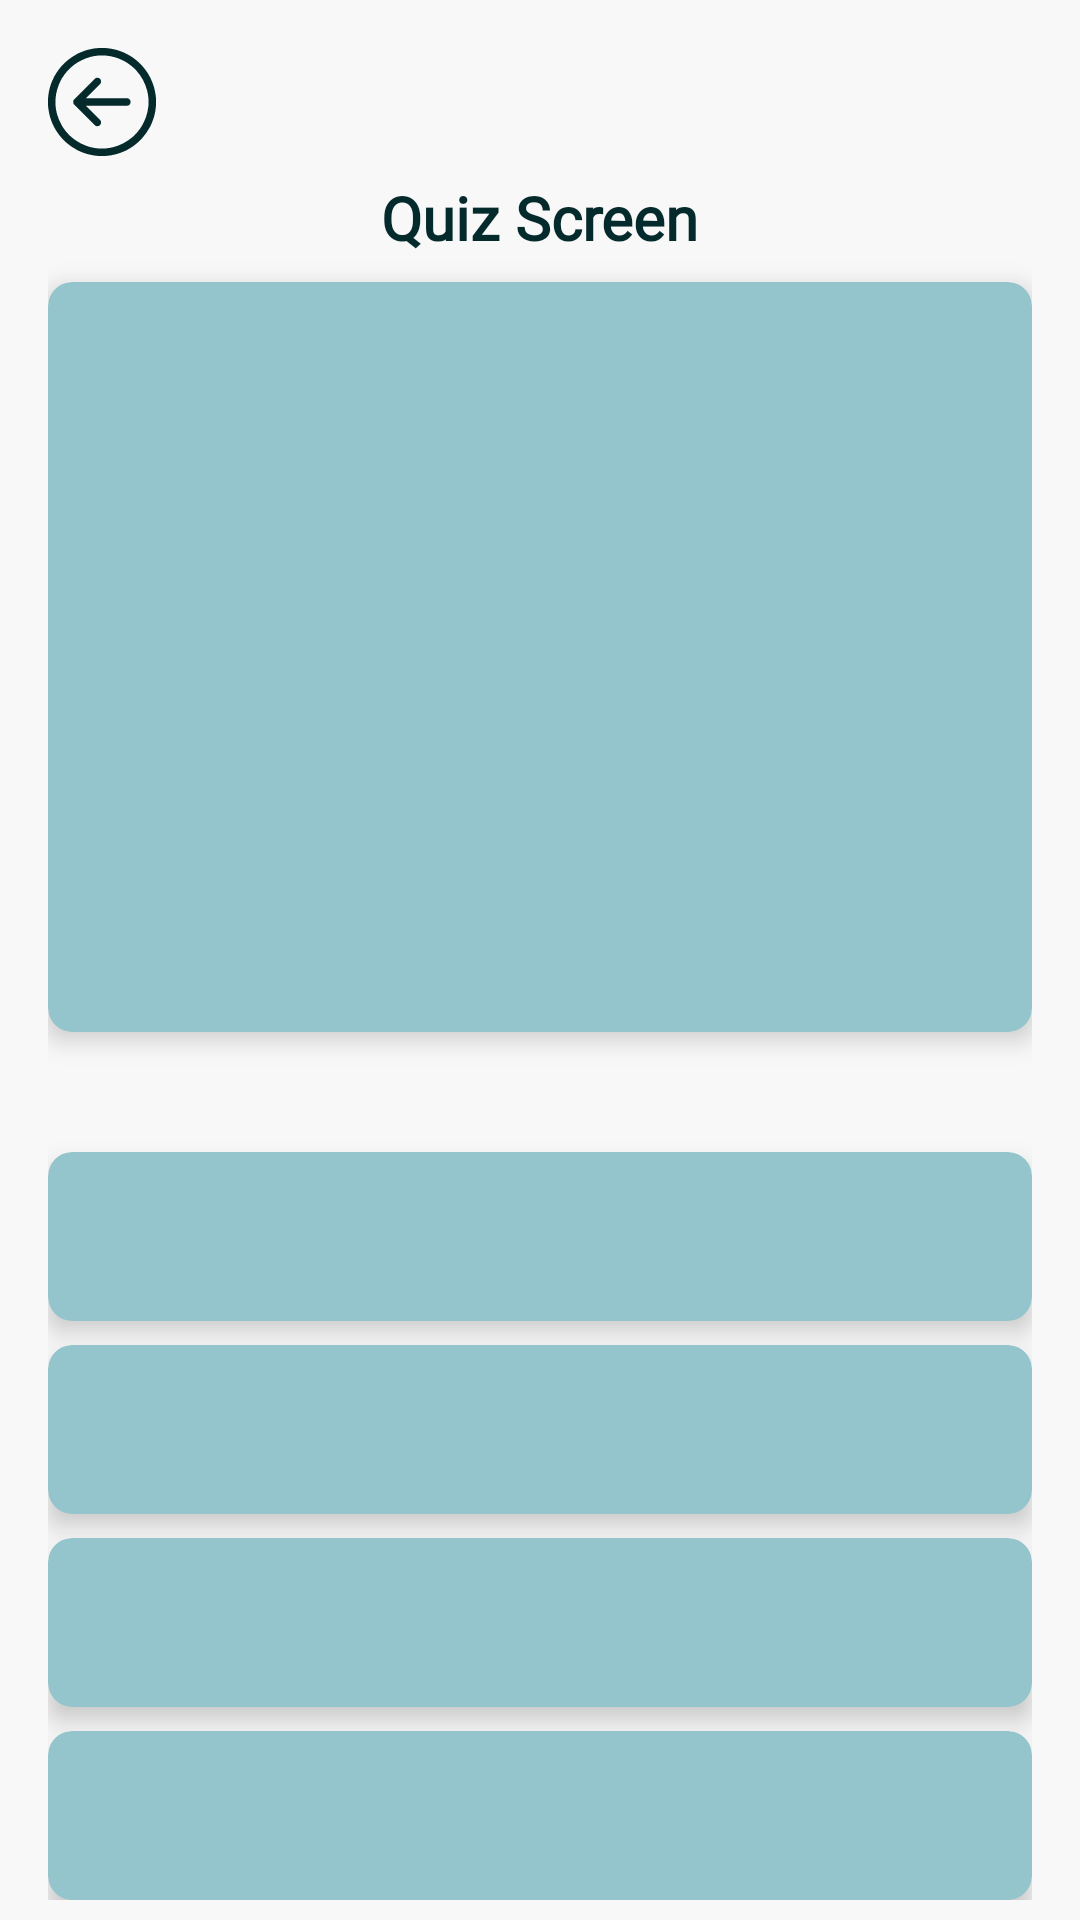

Icon click points for this 1080*1920 phone screenshot, format (x,y):
back: (102,102)
